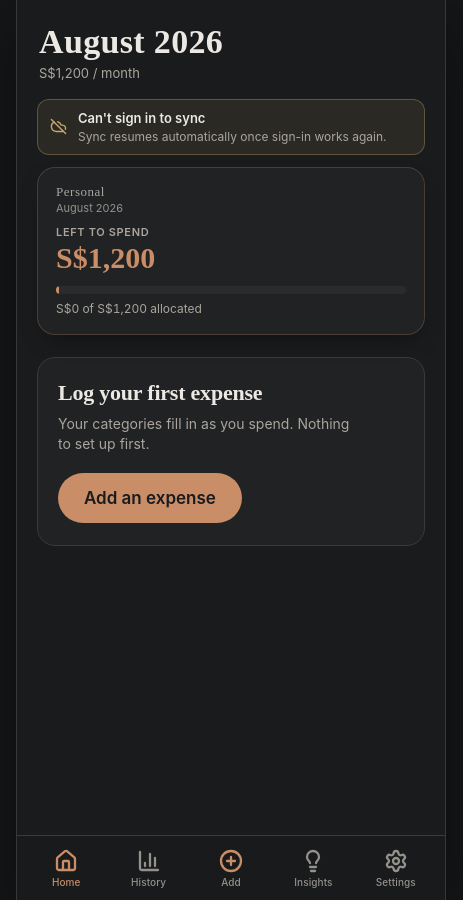
Scenario: App routing (U1) › gives each Settings subscreen its own address
Click the button "Settings".
click(396, 868)  # box [355, 844, 437, 892]
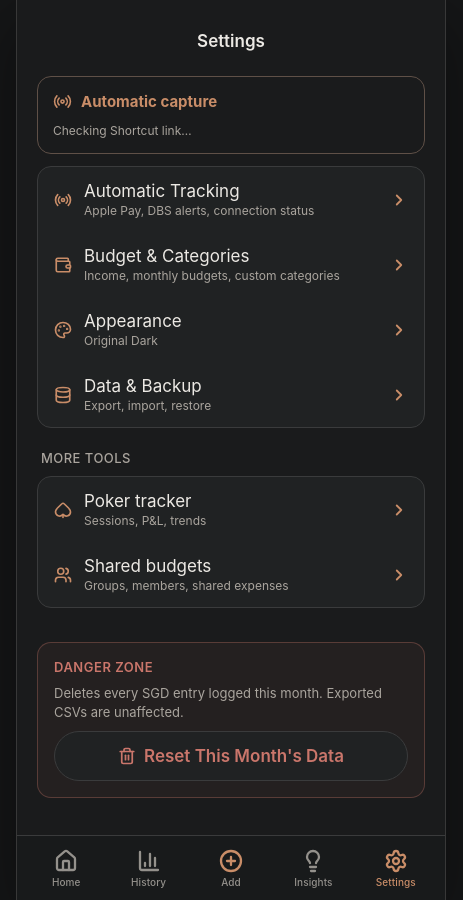
Expected: the heading "Settings" is shown, [197, 31, 265, 51]
Click the button "Appearance Original Dark".
click(133, 321)  # box [38, 297, 424, 362]
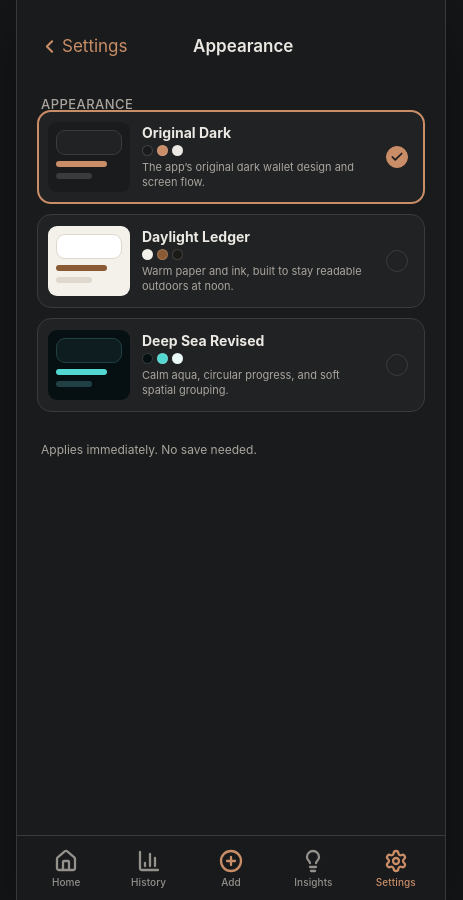
Expected: the 1st heading "Appearance" is shown, [193, 36, 293, 56]
